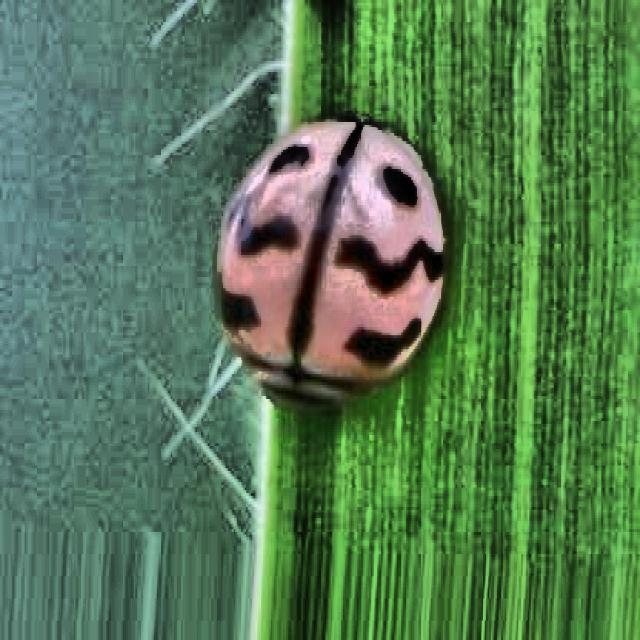Asian-Lady-beetle: (171, 58, 468, 499)
